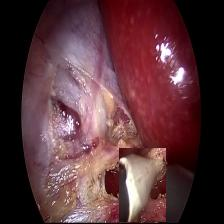Hook: (119, 148, 166, 222)
